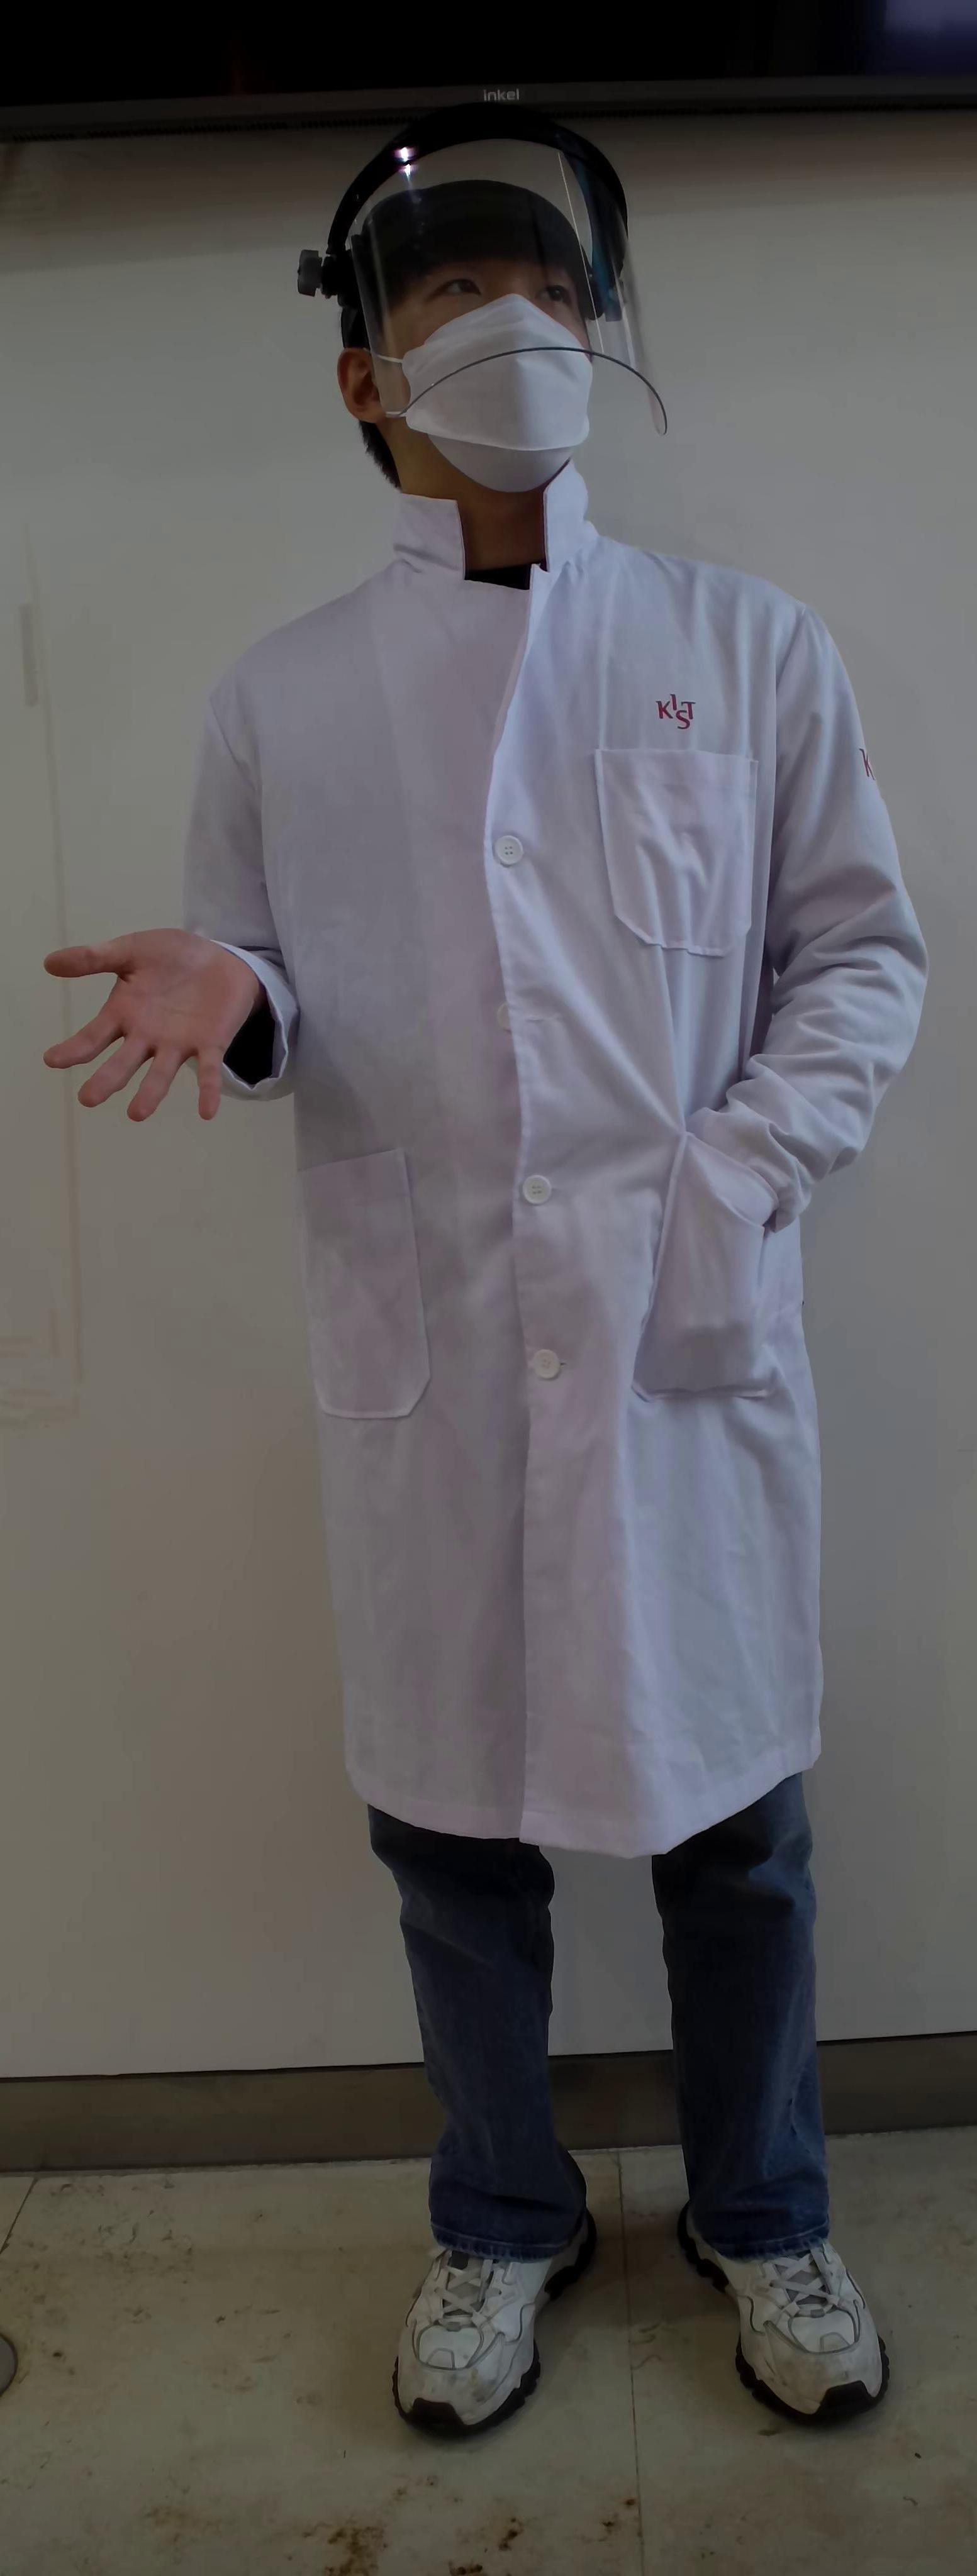lab_coat: (266, 555, 921, 1837)
